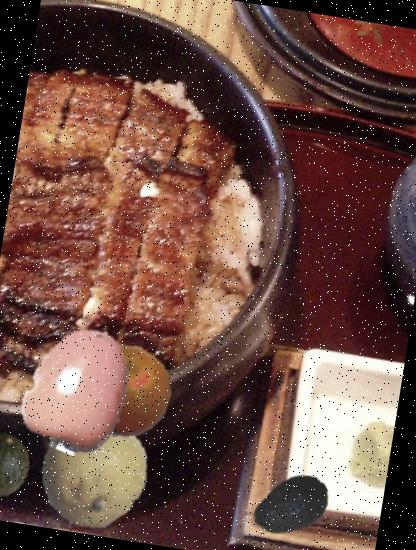Avocado: (246, 461, 336, 550)
Kaki: (6, 316, 152, 462)
Lemon: (27, 408, 158, 538)
Melon: (0, 429, 36, 501)
Tangelo: (74, 338, 180, 444)
